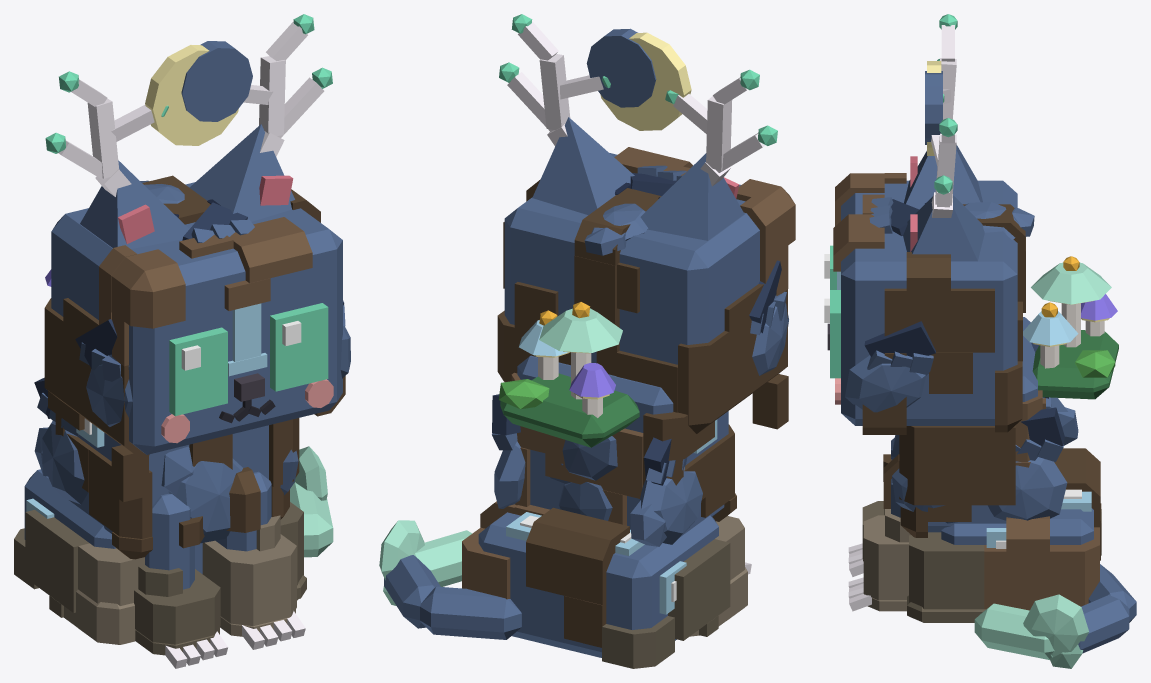
The model's file is CleanACat_Cat_Moonstag_Dirty_Sit.fbx.
3 views of the same model, side by side, from view 1: azimuth 30°, elevation 25°; view 2: azimuth 150°, elevation 25°; view 3: azimuth 270°, elevation 25° (orthographic). The views are drawn at different scales.
Visible parts, largest first — view 1: CleanACat_Cat_Moonstag_Dirty_Sit_Head, CleanACat_Cat_Moonstag_Dirty_Sit_Prop, CleanACat_Cat_Moonstag_Dirty_Sit_Mud17, CleanACat_Cat_Moonstag_Dirty_Sit_Mud01, CleanACat_Cat_Moonstag_Dirty_Sit_Mud06, CleanACat_Cat_Moonstag_Dirty_Sit_Mud18, CleanACat_Cat_Moonstag_Dirty_Sit_Body, CleanACat_Cat_Moonstag_Dirty_Sit_Mud03, CleanACat_Cat_Moonstag_Dirty_Sit_Mud16, CleanACat_Cat_Moonstag_Dirty_Sit_EarL, CleanACat_Cat_Moonstag_Dirty_Sit_Mud14, CleanACat_Cat_Moonstag_Dirty_Sit_EarR (+24 smaller); view 2: CleanACat_Cat_Moonstag_Dirty_Sit_Head, CleanACat_Cat_Moonstag_Dirty_Sit_Body, CleanACat_Cat_Moonstag_Dirty_Sit_Prop, CleanACat_Cat_Moonstag_Dirty_Sit_Prop2, CleanACat_Cat_Moonstag_Dirty_Sit_Mud01, CleanACat_Cat_Moonstag_Dirty_Sit_Mud13, CleanACat_Cat_Moonstag_Dirty_Sit_Tail, CleanACat_Cat_Moonstag_Dirty_Sit_Mud14, CleanACat_Cat_Moonstag_Dirty_Sit_Mud04, CleanACat_Cat_Moonstag_Dirty_Sit_EarL, CleanACat_Cat_Moonstag_Dirty_Sit_EarR, CleanACat_Cat_Moonstag_Dirty_Sit_Mud09 (+19 smaller); view 3: CleanACat_Cat_Moonstag_Dirty_Sit_Head, CleanACat_Cat_Moonstag_Dirty_Sit_Mud02, CleanACat_Cat_Moonstag_Dirty_Sit_Mud08, CleanACat_Cat_Moonstag_Dirty_Sit_Prop2, CleanACat_Cat_Moonstag_Dirty_Sit_Mud12, CleanACat_Cat_Moonstag_Dirty_Sit_Mud15, CleanACat_Cat_Moonstag_Dirty_Sit_Tail, CleanACat_Cat_Moonstag_Dirty_Sit_Body, CleanACat_Cat_Moonstag_Dirty_Sit_Mud17, CleanACat_Cat_Moonstag_Dirty_Sit_Prop, CleanACat_Cat_Moonstag_Dirty_Sit_EarL, CleanACat_Cat_Moonstag_Dirty_Sit_Fluff01 (+18 smaller).
Part boxes in pixels (x1,y1,x2,y2): CleanACat_Cat_Moonstag_Dirty_Sit_Head: [51, 182, 342, 454]; CleanACat_Cat_Moonstag_Dirty_Sit_Prop: [58, 22, 324, 217]; CleanACat_Cat_Moonstag_Dirty_Sit_Mud17: [202, 515, 296, 636]; CleanACat_Cat_Moonstag_Dirty_Sit_Mud01: [44, 298, 149, 502]; CleanACat_Cat_Moonstag_Dirty_Sit_Mud06: [99, 245, 185, 366]; CleanACat_Cat_Moonstag_Dirty_Sit_Mud18: [134, 565, 220, 655]; CleanACat_Cat_Moonstag_Dirty_Sit_Body: [24, 418, 268, 573]; CleanACat_Cat_Moonstag_Dirty_Sit_Mud03: [179, 217, 312, 310]; CleanACat_Cat_Moonstag_Dirty_Sit_Mud16: [64, 543, 144, 644]; CleanACat_Cat_Moonstag_Dirty_Sit_EarL: [189, 124, 294, 221]; CleanACat_Cat_Moonstag_Dirty_Sit_Mud14: [14, 510, 89, 617]; CleanACat_Cat_Moonstag_Dirty_Sit_EarR: [80, 160, 189, 248]; CleanACat_Cat_Moonstag_Dirty_Sit_Head: [504, 153, 759, 364]; CleanACat_Cat_Moonstag_Dirty_Sit_Body: [478, 355, 728, 657]; CleanACat_Cat_Moonstag_Dirty_Sit_Prop: [507, 21, 765, 198]; CleanACat_Cat_Moonstag_Dirty_Sit_Prop2: [498, 308, 639, 447]; CleanACat_Cat_Moonstag_Dirty_Sit_Mud01: [616, 284, 788, 434]; CleanACat_Cat_Moonstag_Dirty_Sit_Mud13: [526, 507, 629, 647]; CleanACat_Cat_Moonstag_Dirty_Sit_Tail: [384, 530, 521, 639]; CleanACat_Cat_Moonstag_Dirty_Sit_Mud14: [602, 539, 730, 668]; CleanACat_Cat_Moonstag_Dirty_Sit_Mud04: [574, 188, 661, 376]; CleanACat_Cat_Moonstag_Dirty_Sit_EarL: [532, 117, 634, 215]; CleanACat_Cat_Moonstag_Dirty_Sit_EarR: [640, 153, 744, 240]; CleanACat_Cat_Moonstag_Dirty_Sit_Mud09: [511, 372, 643, 525]; CleanACat_Cat_Moonstag_Dirty_Sit_Head: [827, 180, 1017, 425]; CleanACat_Cat_Moonstag_Dirty_Sit_Mud02: [862, 252, 994, 434]; CleanACat_Cat_Moonstag_Dirty_Sit_Mud08: [899, 425, 1015, 537]; CleanACat_Cat_Moonstag_Dirty_Sit_Prop2: [1023, 262, 1118, 399]; CleanACat_Cat_Moonstag_Dirty_Sit_Mud12: [984, 516, 1099, 610]; CleanACat_Cat_Moonstag_Dirty_Sit_Mud15: [907, 532, 985, 622]; CleanACat_Cat_Moonstag_Dirty_Sit_Tail: [974, 564, 1136, 659]; CleanACat_Cat_Moonstag_Dirty_Sit_Body: [928, 317, 1093, 548]; CleanACat_Cat_Moonstag_Dirty_Sit_Mud17: [863, 509, 911, 611]; CleanACat_Cat_Moonstag_Dirty_Sit_Prop: [925, 25, 956, 217]; CleanACat_Cat_Moonstag_Dirty_Sit_EarL: [903, 195, 984, 261]; CleanACat_Cat_Moonstag_Dirty_Sit_Fluff01: [845, 355, 927, 412].
Size of the model in its own units: 1.4 by 2.29 by 1.24.
1 material, 1 textured.
